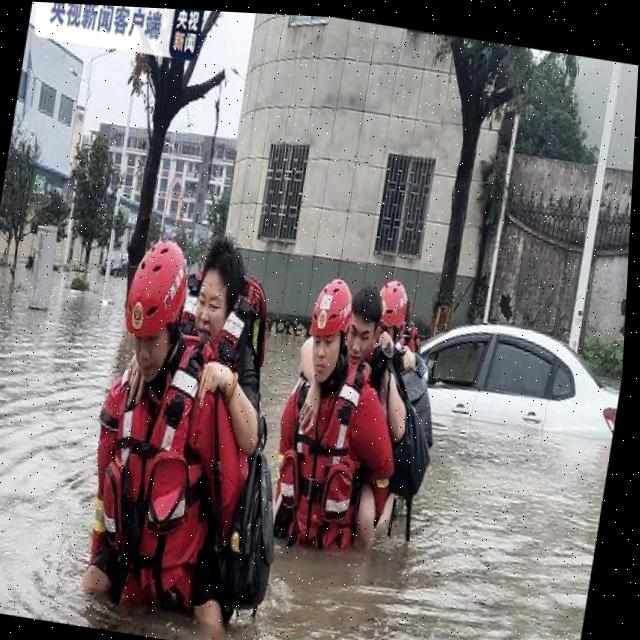civilian: (84, 224, 304, 640), (261, 270, 428, 559)
rescuer: (50, 216, 304, 640), (249, 263, 427, 578), (369, 274, 435, 375)
